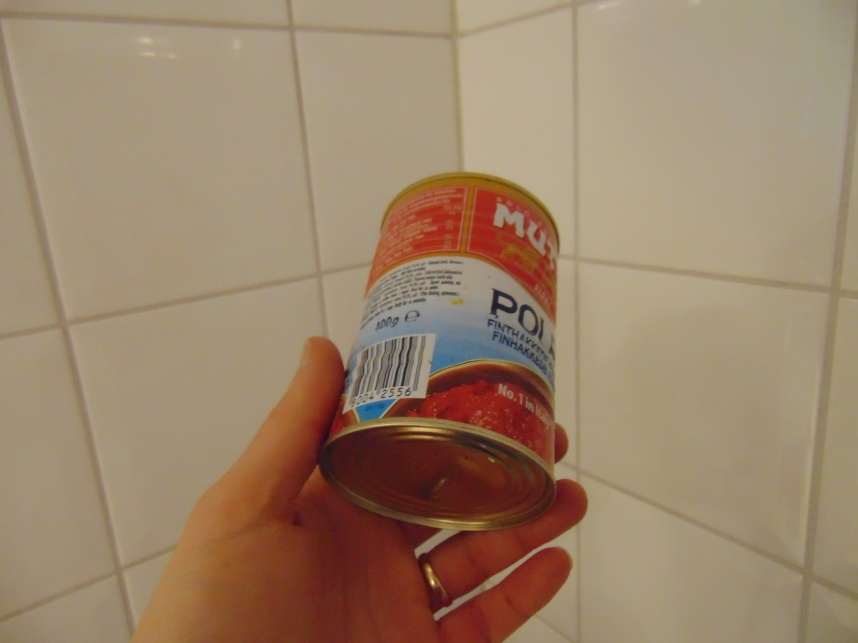metal_can: (317, 170, 559, 532)
